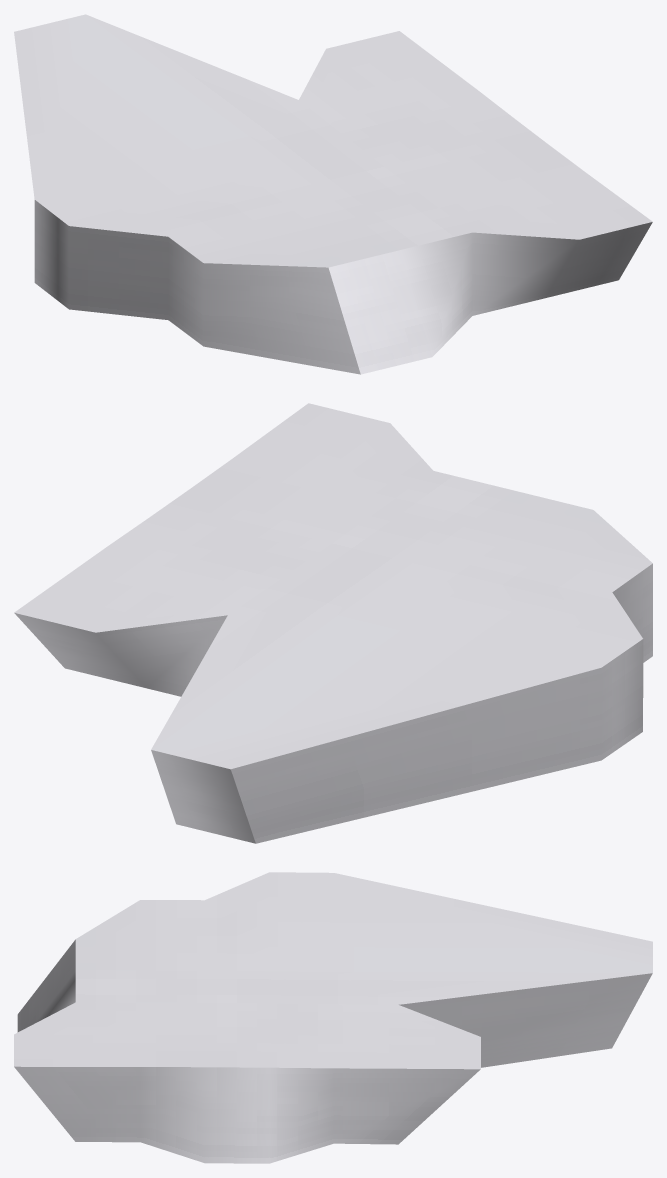
Rendered from SmallIce_L.fbx.
3 renders of one model, top to bottom at view 1: azimuth 30°, elevation 25°; view 2: azimuth 150°, elevation 25°; view 3: azimuth 270°, elevation 25°, orthographic. The views are drawn at different scales.
Parts seen in each view (by area): view 1: pCube1; view 2: pCube1; view 3: pCube1.
Part boxes in pixels (bbox=[...]): pCube1: bbox=[14, 14, 652, 374]; pCube1: bbox=[14, 403, 652, 843]; pCube1: bbox=[14, 872, 652, 1163].
Bounding box in the file's own units: 1.84 × 0.2987 × 2.3.
1 material, 1 textured.
